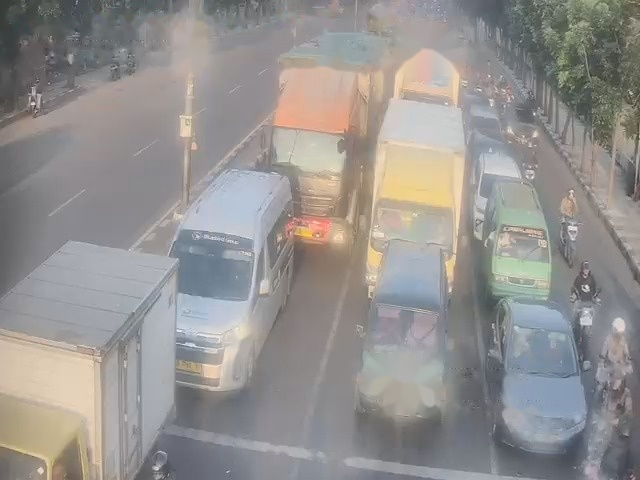Bis: (166, 168, 287, 396)
Mobil: (351, 248, 445, 409), (489, 299, 583, 456), (491, 182, 553, 298), (475, 149, 522, 198)
Motor: (589, 419, 606, 471), (560, 216, 580, 258), (572, 300, 592, 336), (524, 161, 535, 183)
Truk: (0, 237, 136, 480), (272, 56, 374, 248), (370, 105, 471, 293)
